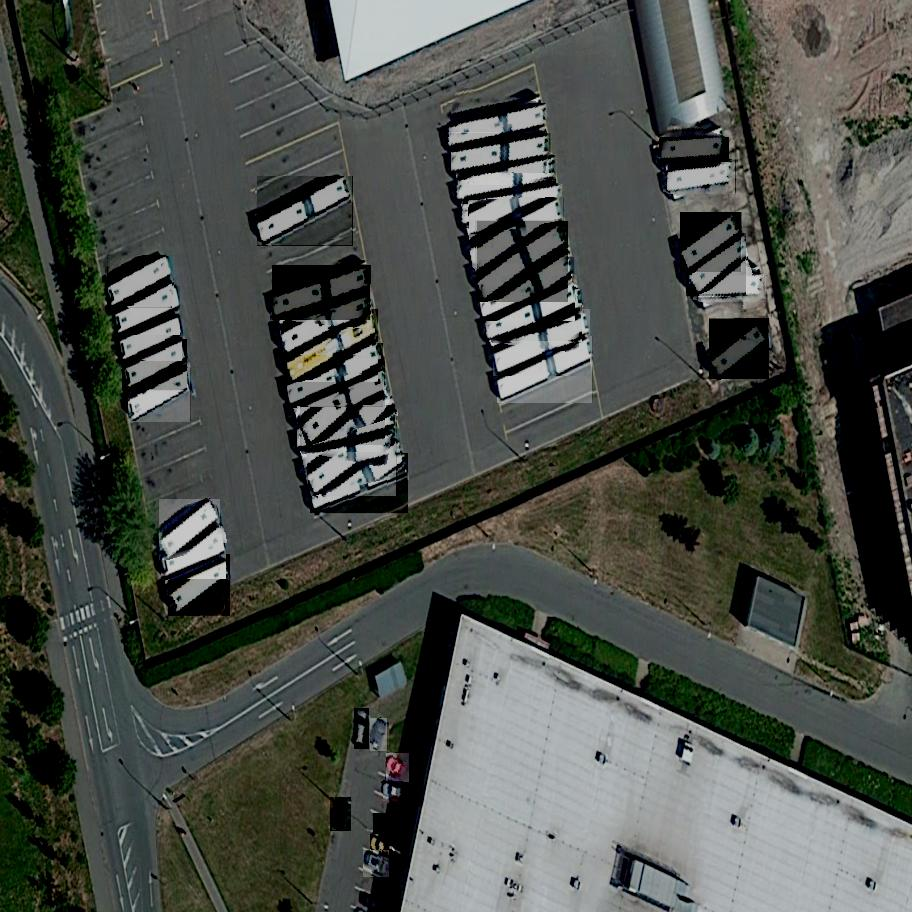large-vehicle: (296, 357, 390, 446), (473, 222, 573, 303), (304, 416, 402, 497), (280, 310, 383, 383), (465, 199, 570, 269), (254, 176, 358, 246), (277, 285, 379, 356), (492, 336, 598, 404), (489, 309, 596, 376), (282, 344, 389, 408), (476, 257, 581, 322), (306, 454, 414, 514), (268, 265, 376, 321), (480, 289, 588, 342), (452, 156, 561, 204), (292, 405, 401, 453), (443, 103, 551, 150), (458, 185, 566, 228), (165, 554, 236, 615), (676, 213, 748, 272), (448, 134, 554, 174), (684, 233, 751, 296), (156, 499, 224, 561), (706, 319, 773, 380), (124, 369, 196, 424), (104, 256, 177, 309), (119, 340, 193, 392), (109, 286, 185, 336), (158, 533, 232, 580), (115, 315, 187, 363), (664, 160, 739, 194), (697, 275, 767, 302), (660, 137, 730, 163)
small-vehicle: (360, 851, 393, 878), (383, 754, 413, 783), (371, 814, 402, 841), (329, 798, 353, 831), (354, 708, 371, 749), (367, 835, 396, 859), (370, 718, 390, 752), (381, 782, 406, 801)
